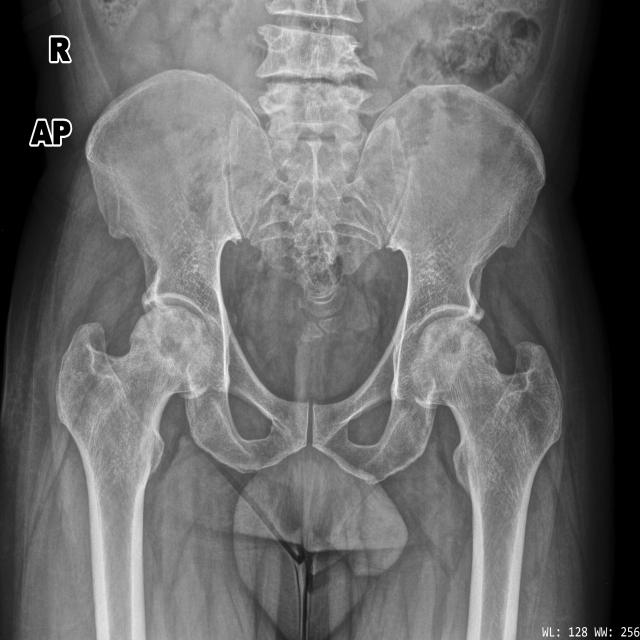normal-left: (411, 317, 563, 640)
normal-right: (55, 306, 214, 640)
